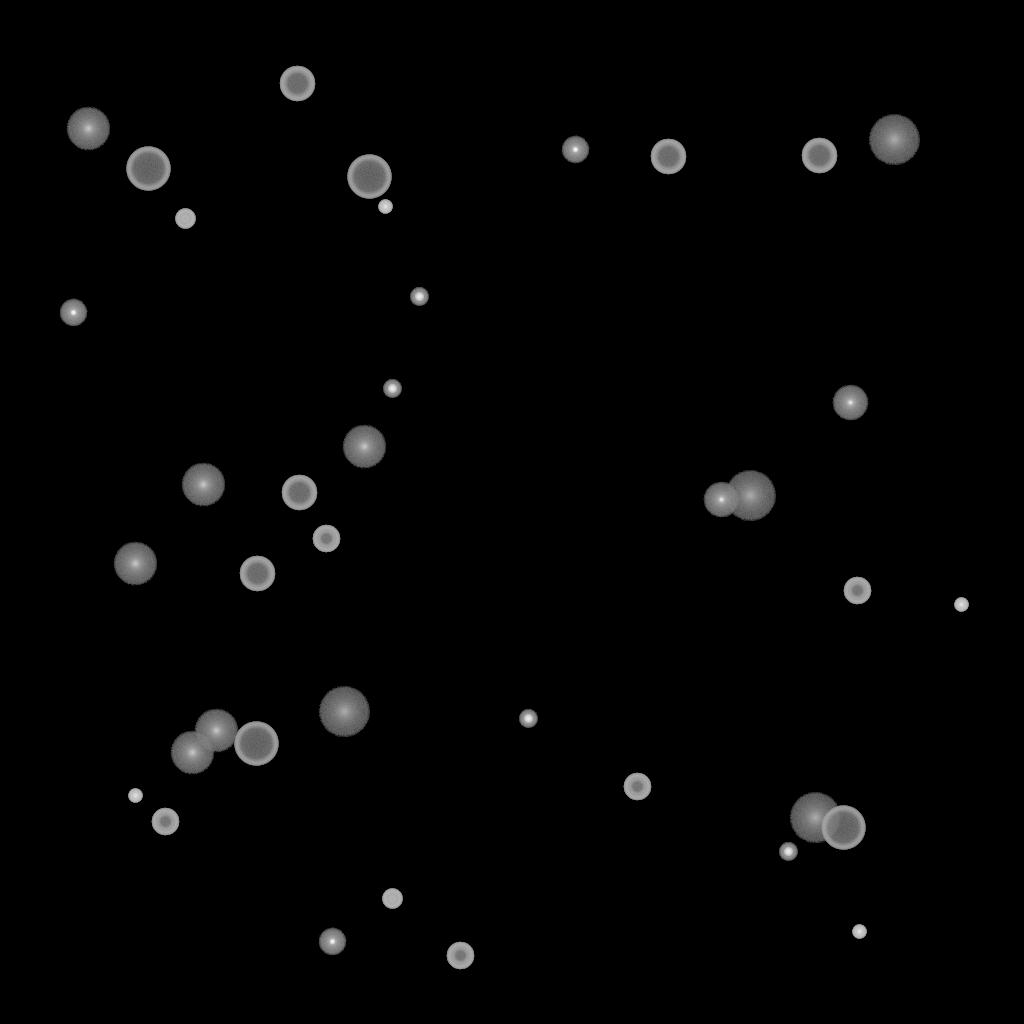depth:-10: (318, 928, 346, 956), (561, 136, 589, 164), (59, 299, 87, 327)
depth:-20: (410, 288, 428, 306), (519, 710, 537, 728), (383, 380, 401, 398), (779, 843, 797, 861)
depth:-30: (378, 200, 392, 214), (128, 789, 142, 803), (852, 925, 866, 939), (954, 598, 968, 612)
depth:-40: (175, 209, 195, 229), (382, 889, 402, 909)
depth:-50: (843, 577, 871, 605), (446, 942, 474, 970), (151, 808, 179, 836), (312, 525, 340, 553), (623, 773, 651, 801)
depth:-60: (239, 556, 275, 592), (281, 475, 317, 511), (279, 66, 315, 102), (650, 139, 686, 175), (801, 138, 837, 174)
depth:-70: (234, 722, 278, 766), (126, 147, 170, 191), (821, 806, 865, 850), (347, 155, 391, 199)
depth:0: (832, 385, 868, 421), (703, 482, 739, 518)
depth:10: (181, 463, 225, 507), (170, 731, 214, 775), (342, 425, 386, 469), (113, 542, 157, 586), (194, 709, 238, 753), (66, 107, 110, 151)
depth:20: (318, 687, 370, 737), (868, 115, 920, 165), (724, 471, 776, 521), (789, 793, 841, 843)
